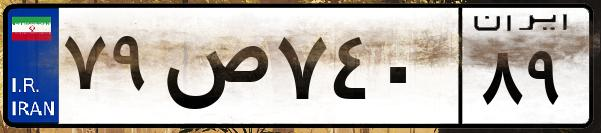0: (385, 28, 445, 110)
4: (330, 28, 385, 110)
7: (270, 28, 330, 110), (57, 26, 110, 100)
8: (475, 38, 525, 113)
9: (525, 38, 570, 115), (110, 28, 158, 98)
ص: (158, 20, 270, 120)
